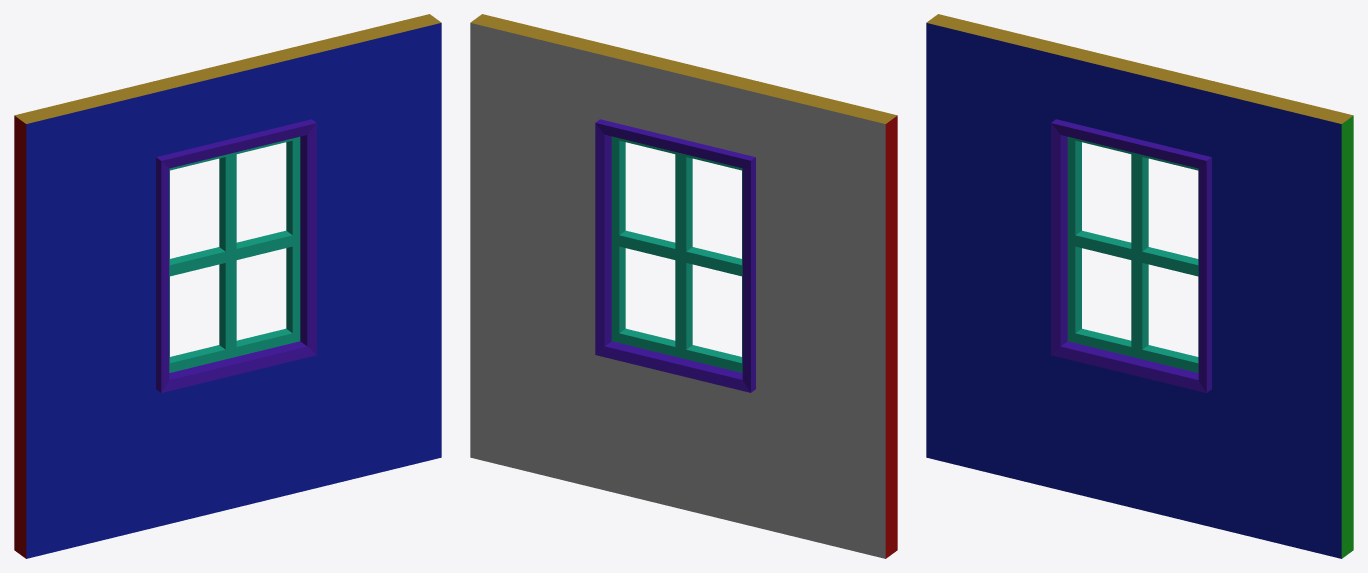
File: Wall_Window_01c.fbx
3 renders of one model, left to right at view 1: azimuth 30°, elevation 25°; view 2: azimuth 150°, elevation 25°; view 3: azimuth 330°, elevation 25°, orthographic.
Visible parts, largest first — view 1: Wall_Window_01c; view 2: Wall_Window_01c; view 3: Wall_Window_01c.
Boxes of the visible parts, x1,y1,x2,y2 form: Wall_Window_01c: [14, 14, 441, 558]; Wall_Window_01c: [470, 14, 897, 558]; Wall_Window_01c: [926, 14, 1353, 558].
Bounding box in the file's own units: 3 × 0.2771 × 3.
